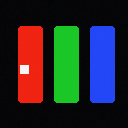1 square: (20, 65, 28, 73)
